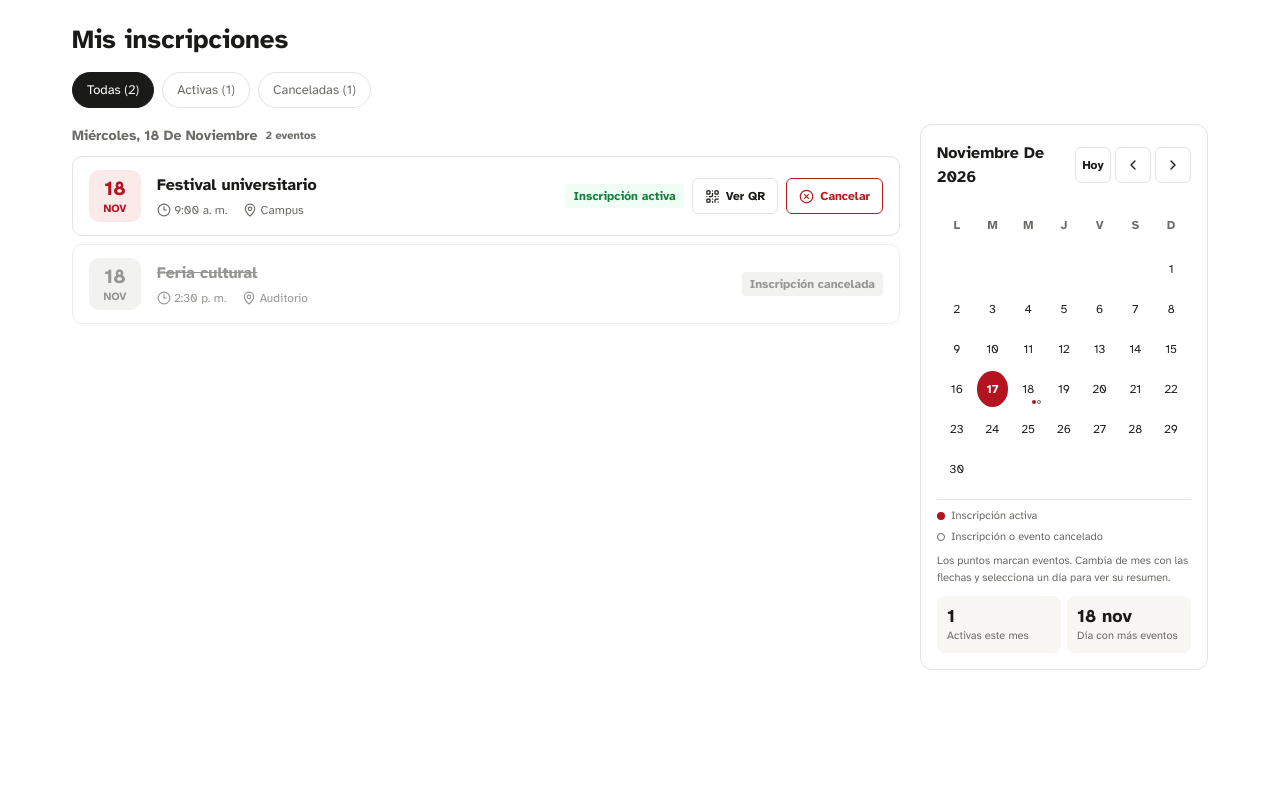
it: MisInscripciones › conserva la inscripción y muestra el error backend si no se puede cancelar
This screenshot has width=1280, height=800.
Click the button with aria-label "Cancelar inscripción a Festival universitario" at (835, 196), box [786,178,883,214]
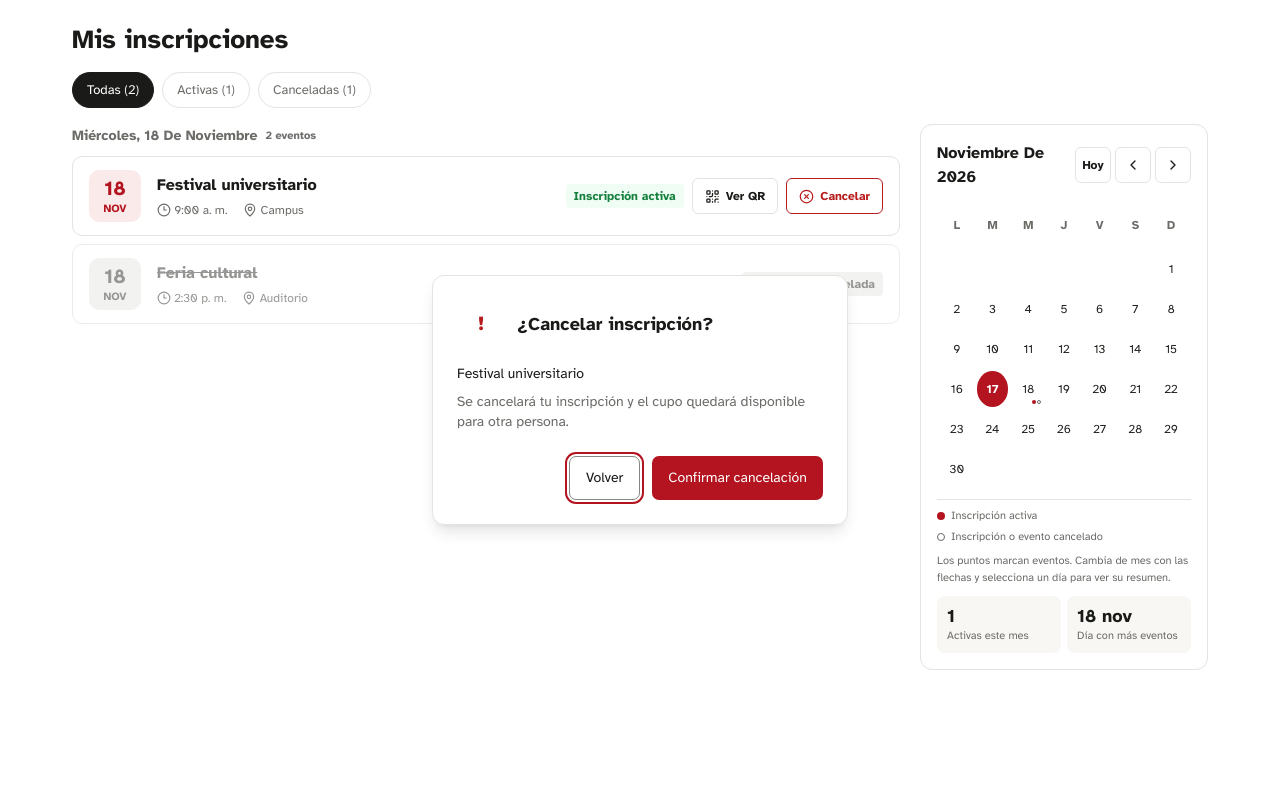
Click the button "Confirmar cancelación" at (738, 478), box [652,456,823,500]
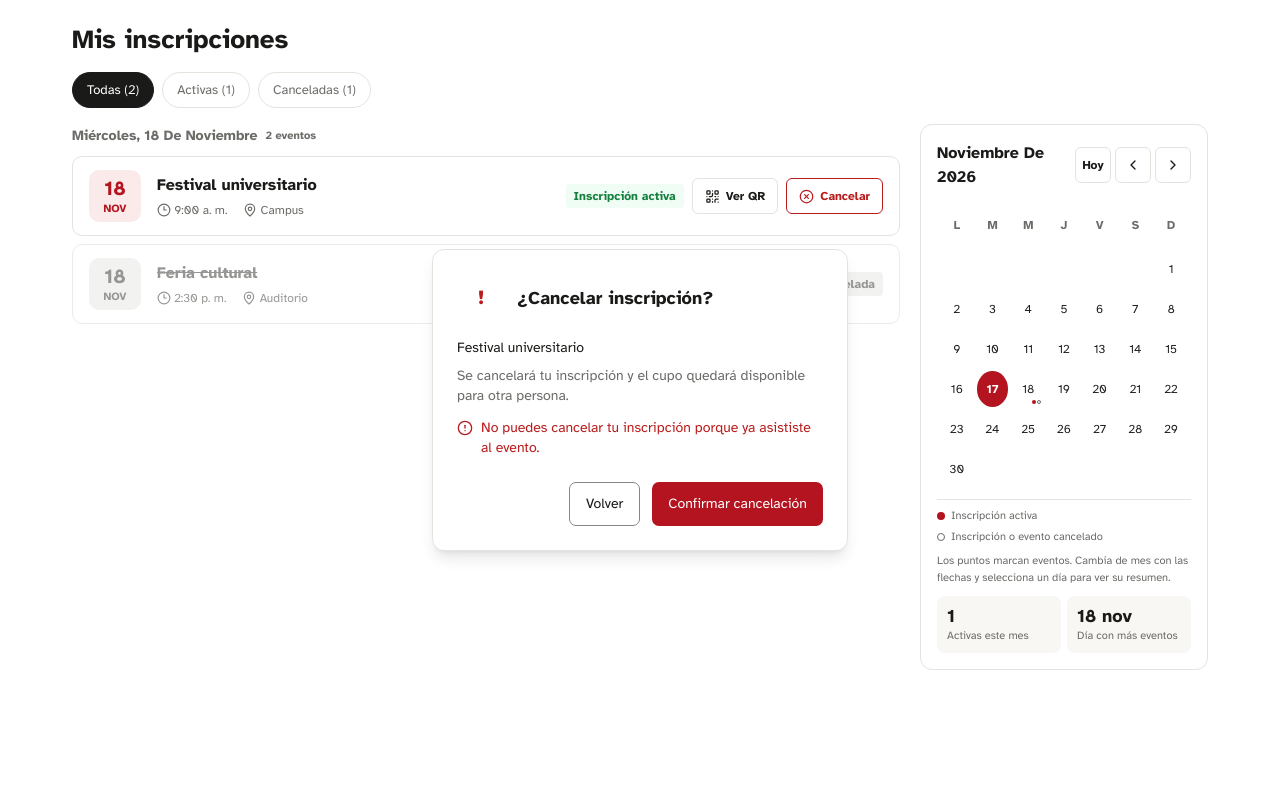
Expected: the text "Inscripción activa" is shown, [566,184,684,208]
Result: the dialog "¿Cancelar inscripción?" is shown at [432,249,848,551]
Result: the message reads "No puedes cancelar tu inscripción porque ya asististe al evento." at [481,419,811,456]
